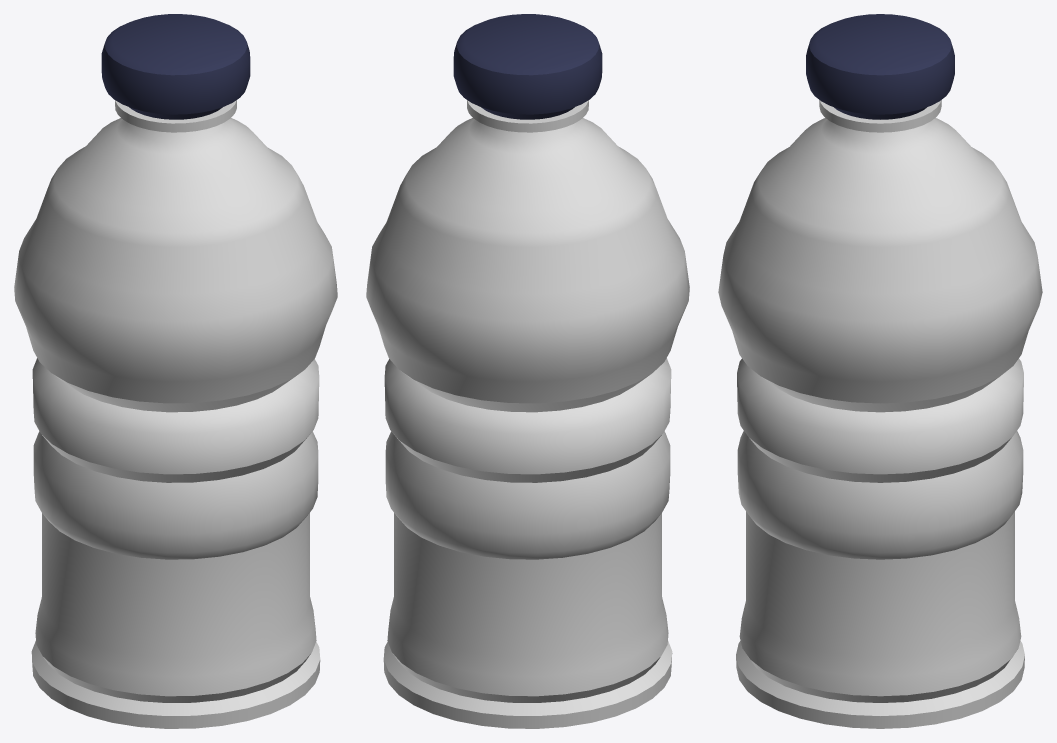
The model's file is bottle33.glb.
3 views of the same model, side by side, from view 1: azimuth 30°, elevation 25°; view 2: azimuth 150°, elevation 25°; view 3: azimuth 270°, elevation 25° (orthographic).
Parts seen in each view (by area): view 1: Bottle33; view 2: Bottle33; view 3: Bottle33.
Part boxes in pixels (x1,y1,x2,y2): Bottle33: [14, 14, 337, 728]; Bottle33: [366, 14, 689, 728]; Bottle33: [718, 14, 1042, 728].
Bounding box in the file's own units: 0.5664 × 1.23 × 0.5664.
